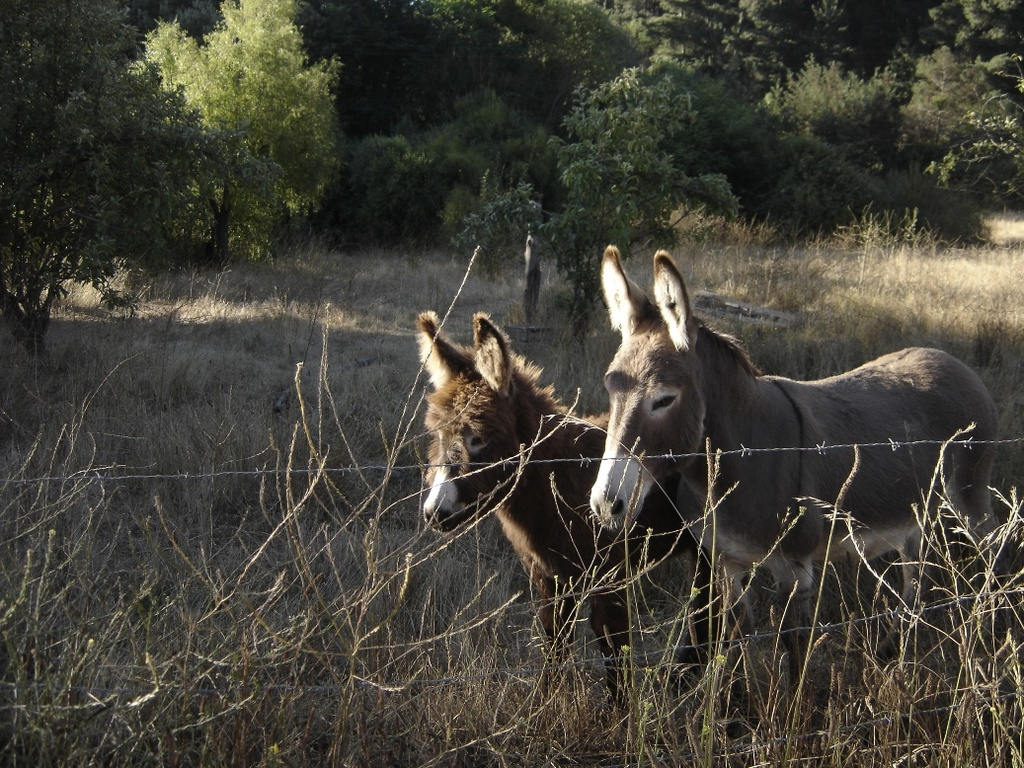Animal: (567, 241, 1004, 712), (408, 307, 727, 732)
